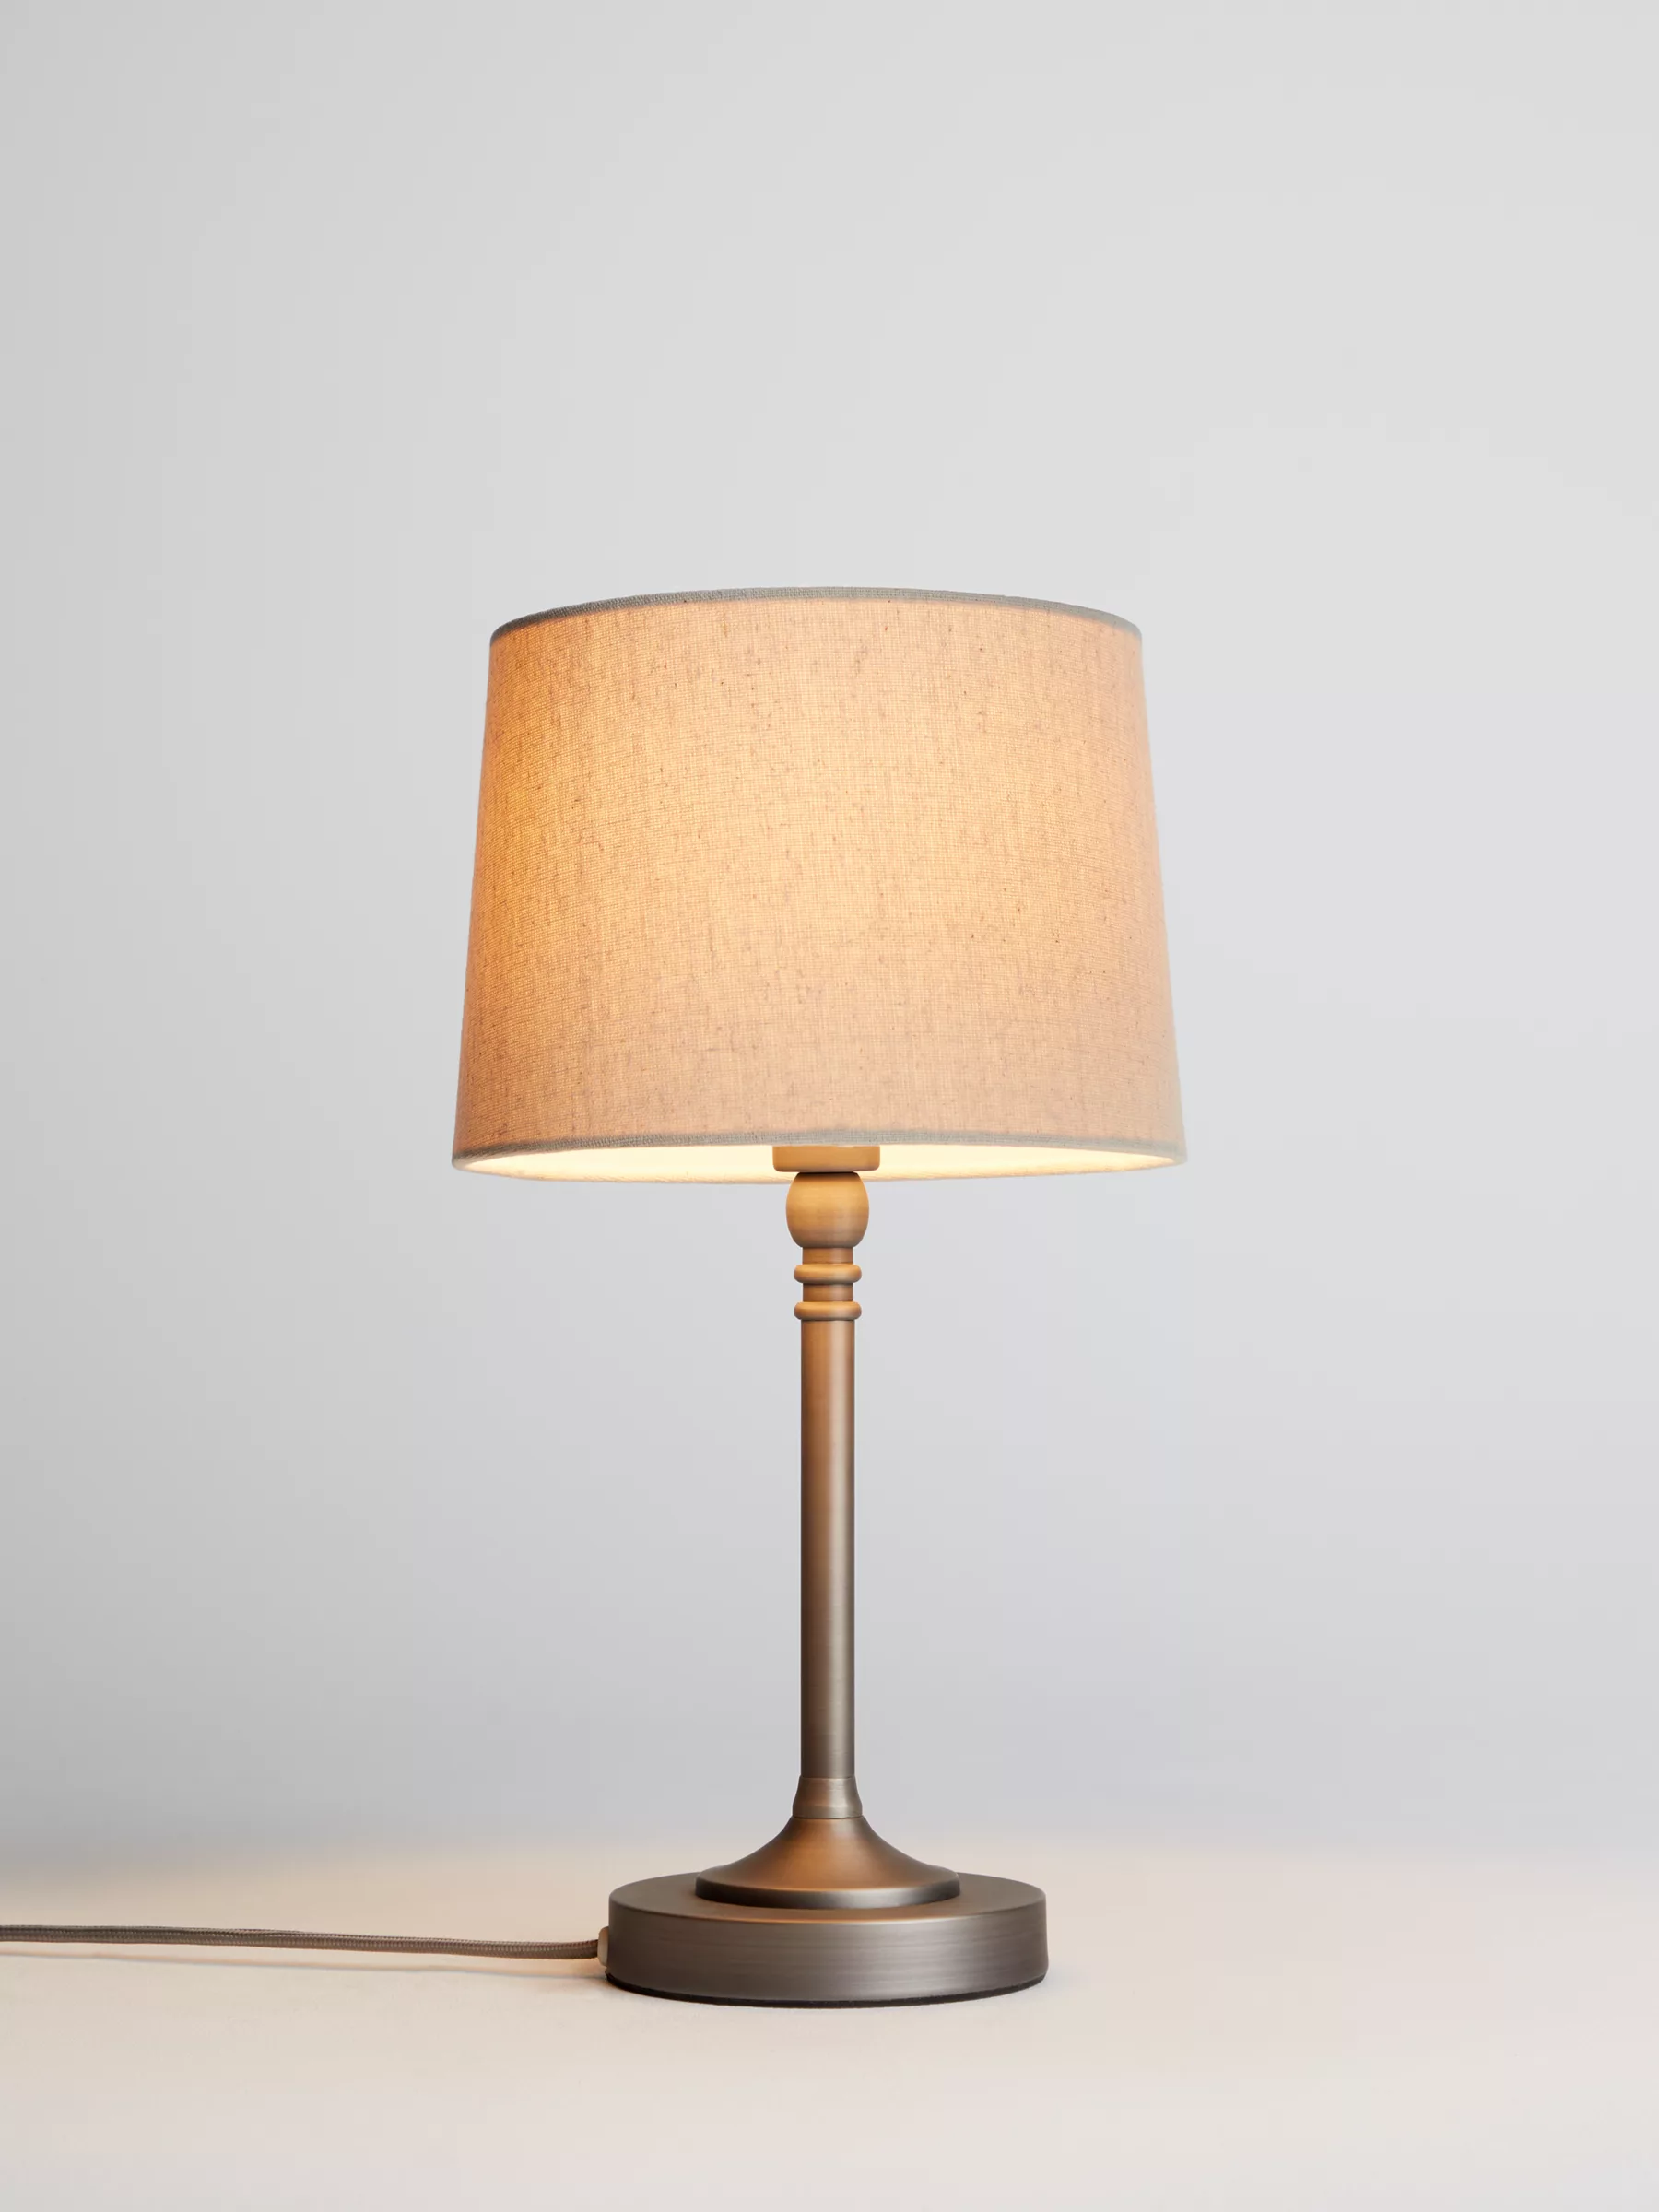lampu: (450, 580, 1188, 1991)
